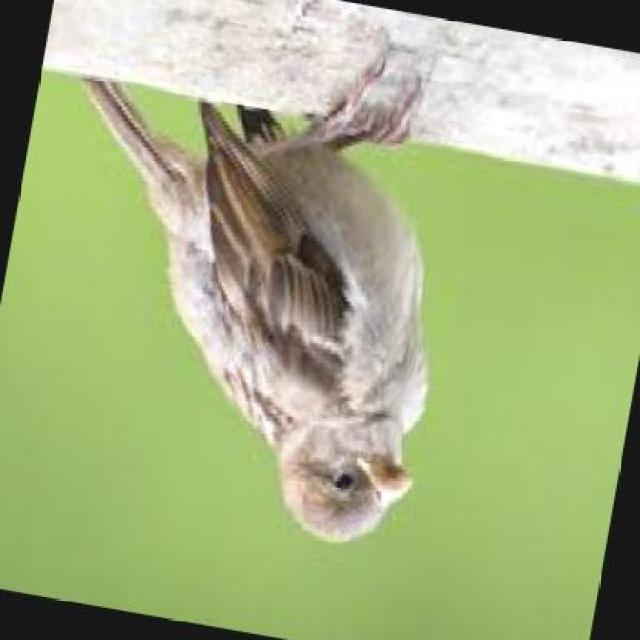Bird: (81, 54, 434, 547)
